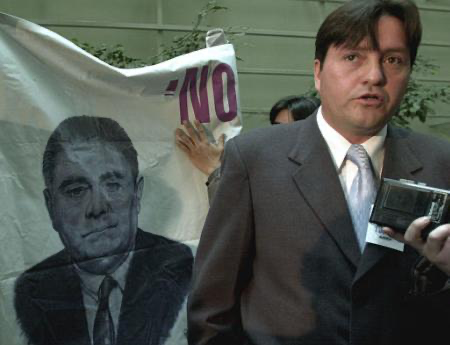Face: (50, 153, 142, 268), (321, 31, 415, 138)
